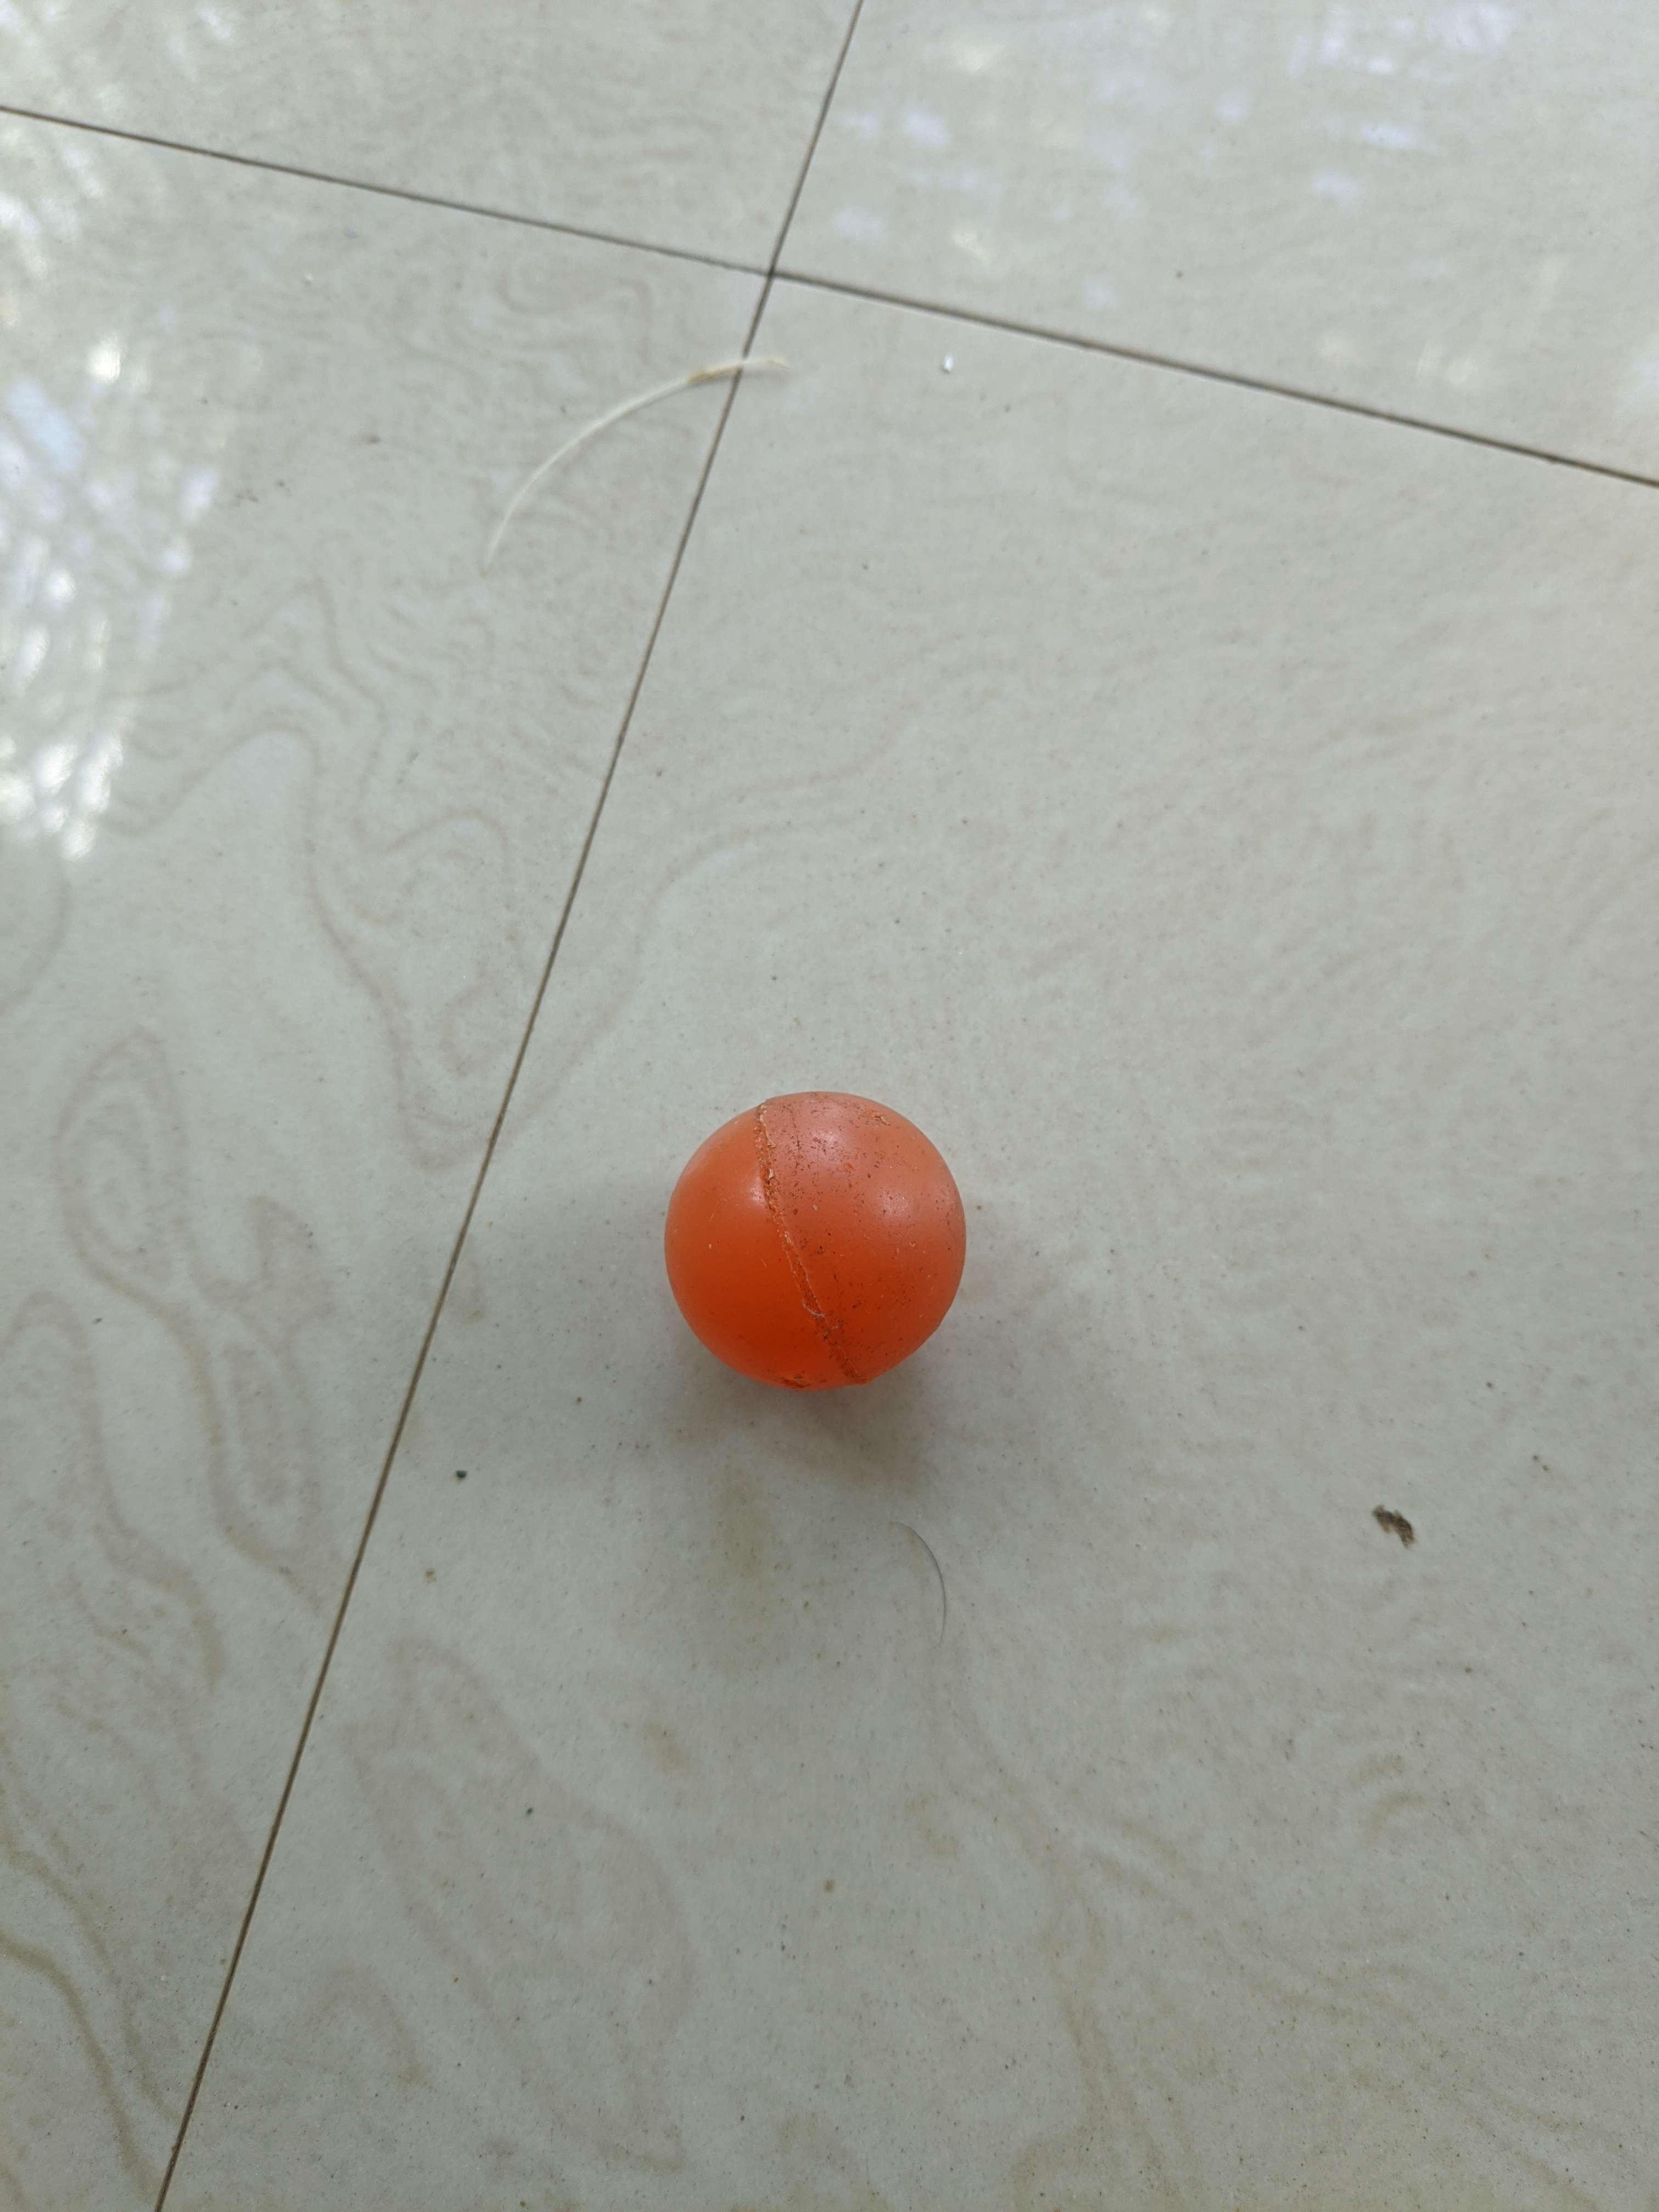red_ball: (634, 1080, 967, 1399)
